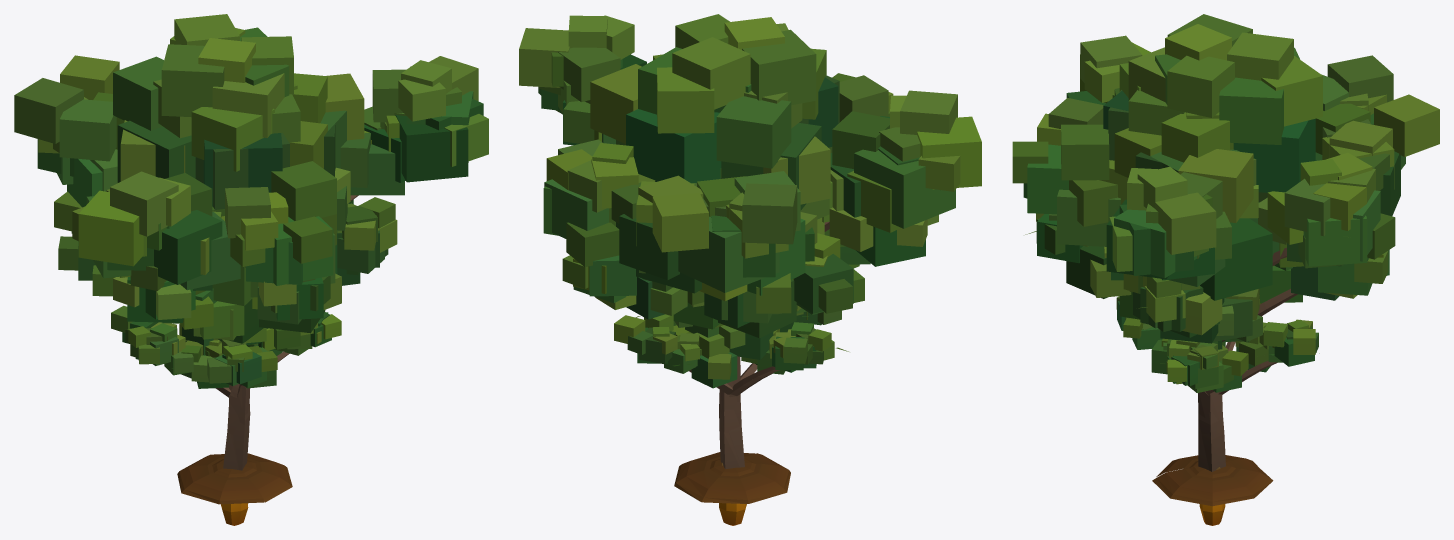
Rendered from cacao.glb.
3 views of the same model, side by side, from view 1: azimuth 30°, elevation 25°; view 2: azimuth 150°, elevation 25°; view 3: azimuth 270°, elevation 25° (orthographic). The views are drawn at different scales.
Parts seen in each view (by area): view 1: stage4_foliage, stage4_l1_foliage, stage3_foliage, stage2_foliage, stage2_soil, stage3_l1_foliage, stage2_l1_foliage, stage4_l1_bark, stage4_bark; view 2: stage4_foliage, stage4_l1_foliage, stage3_foliage, stage2_foliage, stage2_soil, stage3_l1_foliage, stage2_l1_foliage, stage4_bark, stage4_l1_bark; view 3: stage4_foliage, stage4_l1_foliage, stage3_foliage, stage2_foliage, stage2_soil, stage2_l1_foliage, stage4_bark, stage3_l1_foliage, stage4_l1_bark.
Part boxes in pixels (x1,y1,x2,y2): stage4_foliage: (14, 27, 488, 305); stage4_l1_foliage: (106, 14, 478, 290); stage3_foliage: (54, 191, 397, 343); stage2_foliage: (128, 313, 341, 388); stage2_soil: (177, 453, 292, 504); stage3_l1_foliage: (58, 203, 388, 323); stage2_l1_foliage: (111, 305, 328, 378); stage4_l1_bark: (223, 195, 358, 470); stage4_bark: (227, 195, 356, 469); stage4_foliage: (541, 15, 981, 295); stage4_l1_foliage: (519, 14, 920, 293); stage3_foliage: (562, 169, 938, 338); stage2_foliage: (614, 310, 841, 388); stage2_soil: (674, 452, 790, 503); stage3_l1_foliage: (792, 233, 864, 314); stage2_l1_foliage: (757, 332, 812, 374); stage4_bark: (719, 221, 829, 469); stage4_l1_bark: (719, 358, 744, 467); stage4_foliage: (1012, 14, 1439, 300); stage4_l1_foliage: (1066, 32, 1400, 300); stage3_foliage: (1036, 197, 1395, 343); stage2_foliage: (1116, 296, 1318, 392); stage2_soil: (1152, 455, 1273, 506); stage2_l1_foliage: (1167, 339, 1241, 392); stage4_bark: (1198, 247, 1286, 471); stage3_l1_foliage: (1157, 283, 1258, 337); stage4_l1_bark: (1198, 394, 1222, 470).
Bounding box in the file's own units: 2.04 × 2.23 × 1.81.
